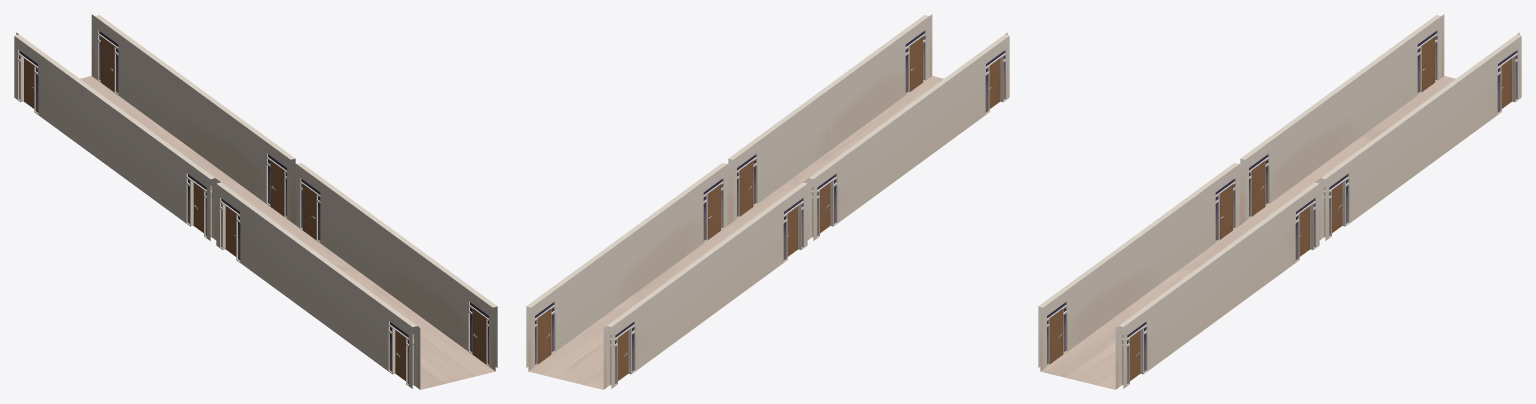
The model's file is corridor3.fbx.
The picture shows the model from 3 angles, left to right: view 1: azimuth 30°, elevation 25°; view 2: azimuth 150°, elevation 25°; view 3: azimuth 330°, elevation 25°; orthographic projection.
Parts seen in each view (by area): view 1: wall003.007, wall003.012, wall003.011, wall003.010, Plane.003, door.001, door.014, door.013, door.015, door.036, Cube.006, door.016 (+1 smaller); view 2: wall003.012, wall003.007, wall003.010, wall003.011, Plane.003, door.013, door.015, door.001, door.014, Cube.006, door.036, door.016 (+1 smaller); view 3: wall003.011, wall003.010, wall003.007, wall003.012, Plane.003, door.017, door.016, Cube.006, door.036, door.001, door.013, door.014 (+1 smaller).
Boxes of the visible parts, box(x1,y1,x2,y2) form: wall003.007: box(216, 180, 420, 389); wall003.012: box(14, 32, 218, 240); wall003.011: box(293, 162, 497, 371); wall003.010: box(91, 14, 295, 223); Plane.003: box(80, 76, 494, 389); door.001: box(472, 308, 486, 364); door.014: box(270, 161, 284, 216); door.013: box(101, 36, 114, 91); door.015: box(303, 184, 316, 239); door.036: box(225, 206, 236, 256); Cube.006: box(395, 330, 405, 380); door.016: box(24, 58, 34, 108); wall003.012: box(603, 180, 807, 389); wall003.007: box(805, 32, 1009, 240); wall003.010: box(526, 162, 730, 371); wall003.011: box(728, 14, 932, 223); Plane.003: box(529, 76, 943, 389); door.013: box(537, 308, 551, 364); door.015: box(739, 161, 753, 216); door.001: box(909, 36, 922, 91); door.014: box(707, 184, 720, 239); Cube.006: box(989, 58, 1000, 108); door.036: box(820, 183, 830, 233); door.016: box(618, 330, 628, 380); wall003.011: box(1115, 180, 1319, 389); wall003.010: box(1317, 32, 1521, 240); wall003.007: box(1038, 162, 1242, 371); wall003.012: box(1240, 14, 1444, 223); Plane.003: box(1041, 76, 1455, 389); door.017: box(1251, 161, 1265, 216); door.016: box(1421, 36, 1434, 91); Cube.006: box(1049, 309, 1062, 364); door.036: box(1219, 184, 1232, 239); door.001: box(1130, 330, 1140, 380); door.013: box(1501, 58, 1511, 108); door.014: box(1332, 183, 1342, 232).
Size of the model in its own units: 170 by 118 by 1400.
3 materials, 3 textured.
